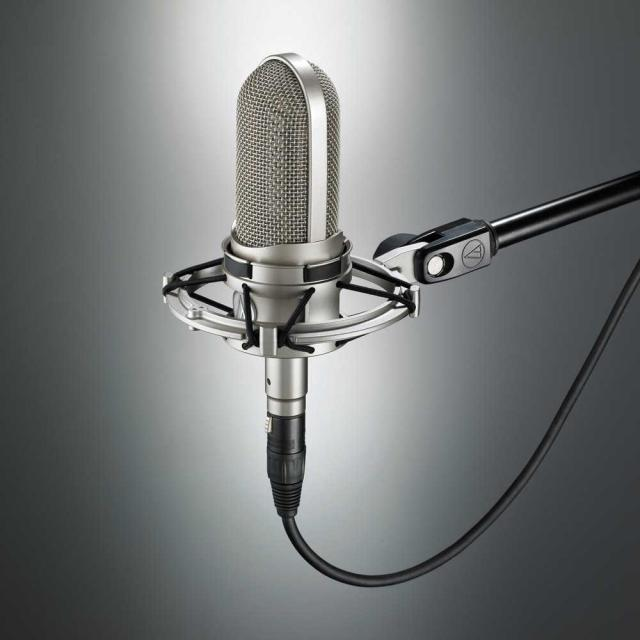microphone: (220, 53, 346, 475)
